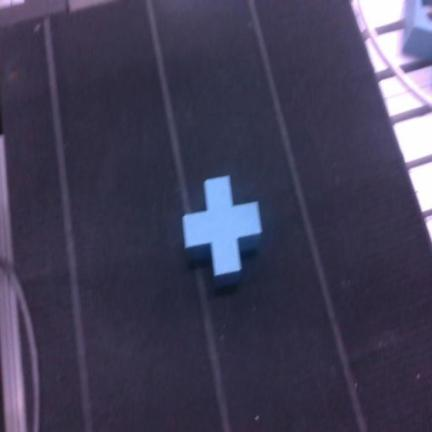cross: (184, 177, 261, 285)
